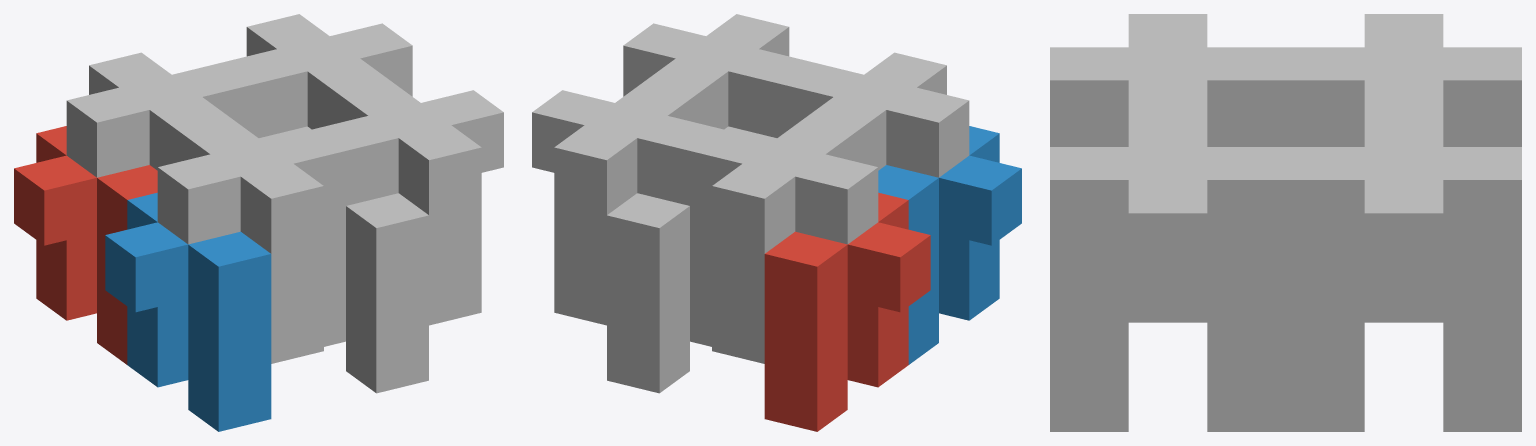
The model's file is tiling.obj.
3 views of the same model, side by side, from view 1: azimuth 30°, elevation 25°; view 2: azimuth 150°, elevation 25°; view 3: azimuth 270°, elevation 25° (orthographic). The views are drawn at different scales.
Parts seen in each view (by area): view 1: copy_1_domain_2, copy_1_domain_4, copy_1_domain_8, copy_1_domain_6, copy_1_domain_1, copy_1_domain_3, copy_1_domain_7; view 2: copy_1_domain_1, copy_1_domain_3, copy_1_domain_7, copy_1_domain_5, copy_1_domain_2, copy_1_domain_4, copy_1_domain_8; view 3: copy_1_domain_7, copy_1_domain_8, copy_1_domain_3, copy_1_domain_4, copy_1_domain_5, copy_1_domain_6.
Boxes of the visible parts, x1=… form: copy_1_domain_2: x1=105, y1=192, x2=271, y2=431; copy_1_domain_4: x1=157, y1=119, x2=345, y2=363; copy_1_domain_8: x1=316, y1=80, x2=503, y2=325; copy_1_domain_6: x1=324, y1=193, x2=428, y2=393; copy_1_domain_1: x1=14, y1=126, x2=157, y2=364; copy_1_domain_3: x1=66, y1=52, x2=254, y2=177; copy_1_domain_7: x1=225, y1=14, x2=412, y2=137; copy_1_domain_1: x1=764, y1=192, x2=930, y2=431; copy_1_domain_3: x1=690, y1=119, x2=878, y2=363; copy_1_domain_7: x1=532, y1=80, x2=719, y2=325; copy_1_domain_5: x1=607, y1=193, x2=711, y2=393; copy_1_domain_2: x1=878, y1=126, x2=1021, y2=364; copy_1_domain_4: x1=781, y1=52, x2=969, y2=177; copy_1_domain_8: x1=623, y1=14, x2=810, y2=137; copy_1_domain_7: x1=1286, y1=113, x2=1521, y2=393; copy_1_domain_8: x1=1050, y1=113, x2=1285, y2=393; copy_1_domain_3: x1=1286, y1=14, x2=1521, y2=146; copy_1_domain_4: x1=1050, y1=14, x2=1285, y2=146; copy_1_domain_5: x1=1286, y1=284, x2=1521, y2=431; copy_1_domain_6: x1=1050, y1=284, x2=1285, y2=431.
Bounding box in the file's own units: 7 × 4 × 6.
